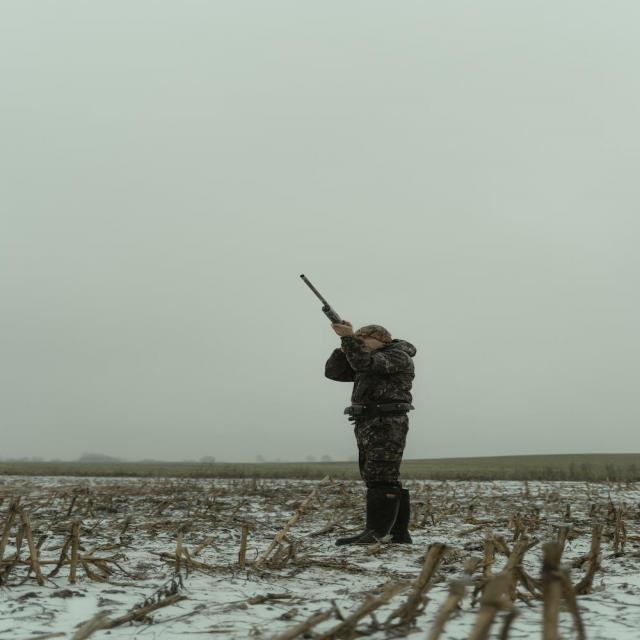weapon: (299, 274, 349, 328)
